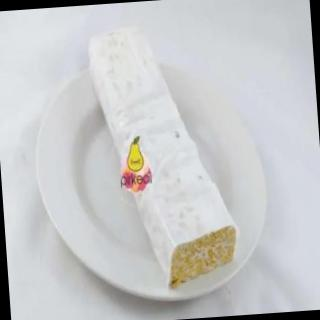Tempe: (82, 16, 245, 294)
